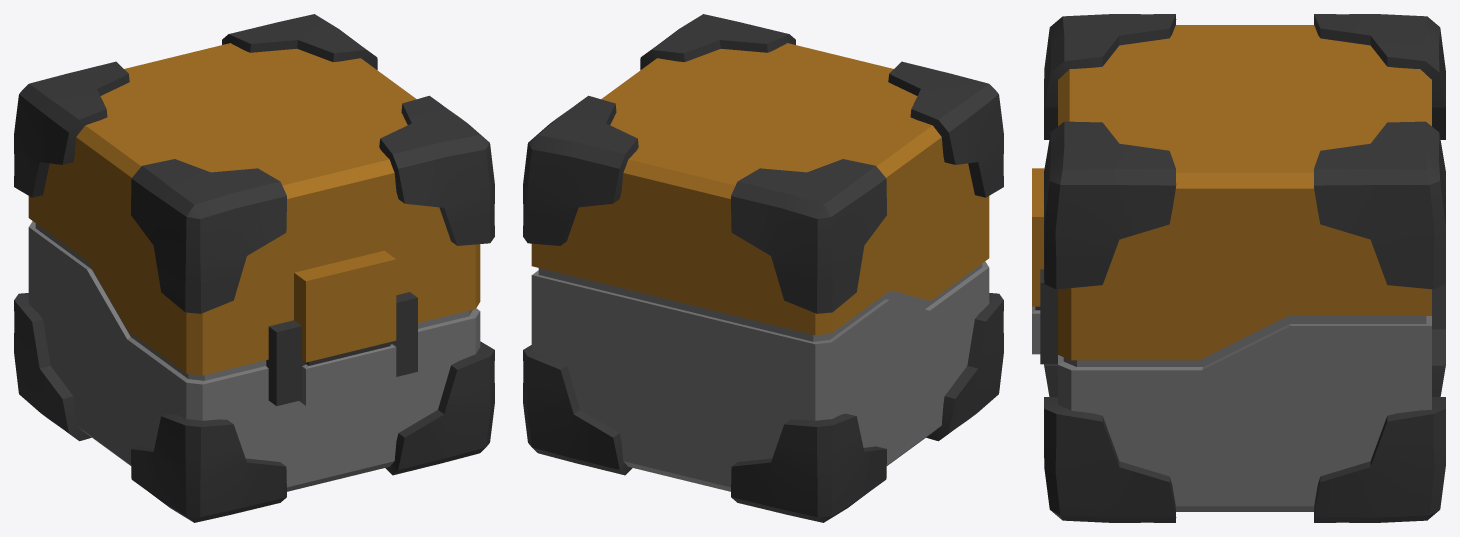
File: Pickup Crate.glb
3 renders of one model, left to right at view 1: azimuth 30°, elevation 25°; view 2: azimuth 150°, elevation 25°; view 3: azimuth 270°, elevation 25°, orthographic. The views are drawn at different scales.
Parts seen in each view (by area): view 1: Pickup_Crate; view 2: Pickup_Crate; view 3: Pickup_Crate.
Boxes of the visible parts, left/top/right/bottom form: Pickup_Crate: left=14, top=14, right=494, bottom=522; Pickup_Crate: left=523, top=14, right=1003, bottom=522; Pickup_Crate: left=1032, top=14, right=1445, bottom=522.
Bounding box in the file's own units: 0.8729 × 0.8576 × 0.899.
1 material, 1 textured.
